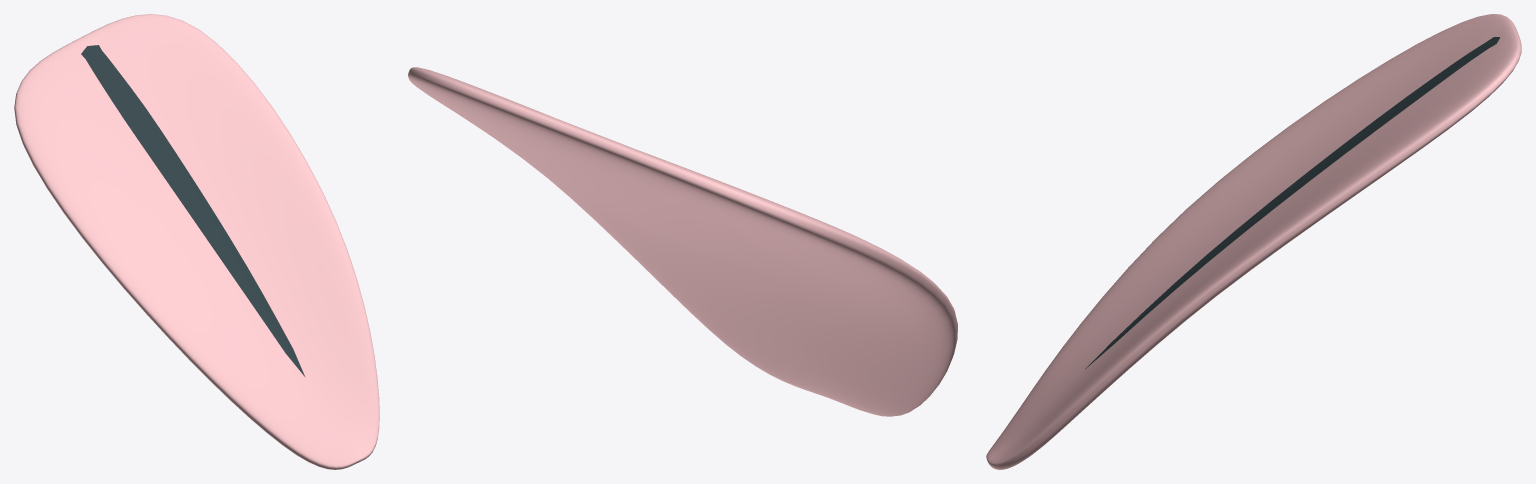
Rendered from Tongue.gltf.
The picture shows the model from 3 angles, left to right: view 1: azimuth 30°, elevation 25°; view 2: azimuth 150°, elevation 25°; view 3: azimuth 270°, elevation 25°; orthographic projection. The views are drawn at different scales.
Visible parts, largest first — view 1: mouth9-PBR, mouth9-PBR.1; view 2: mouth9-PBR; view 3: mouth9-PBR, mouth9-PBR.1.
Part boxes in pixels (<box>): mouth9-PBR: <box>14,14,379,469</box>; mouth9-PBR.1: <box>81,45,305,377</box>; mouth9-PBR: <box>408,67,957,416</box>; mouth9-PBR: <box>986,14,1521,469</box>; mouth9-PBR.1: <box>1085,37,1499,369</box>.
Bounding box in the file's own units: 0.8146 × 1.03 × 1.25.
